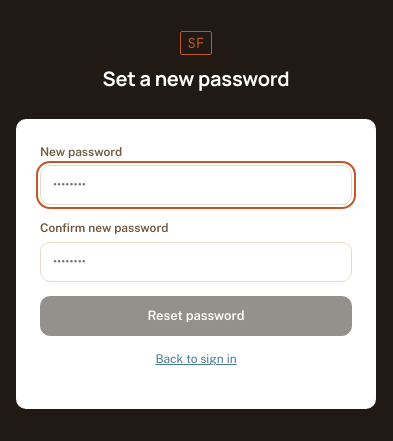
it: ResetPasswordPage › shows a real success state and mentions sessions being signed out
Type "brandnewpassword456" into the password field labelled "New password". click: (196, 185)
box: x1=40 y1=165 x2=352 y2=205
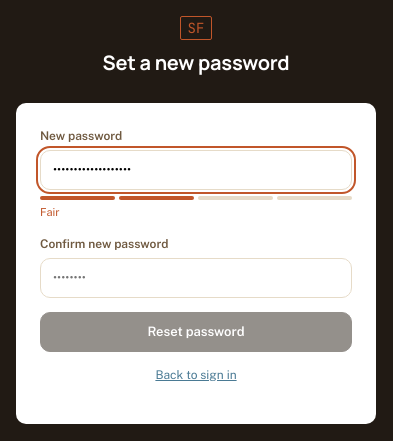
Type "brandnewpassword456" into the password field labelled "Confirm new password". click: (196, 278)
box: x1=40 y1=258 x2=352 y2=298
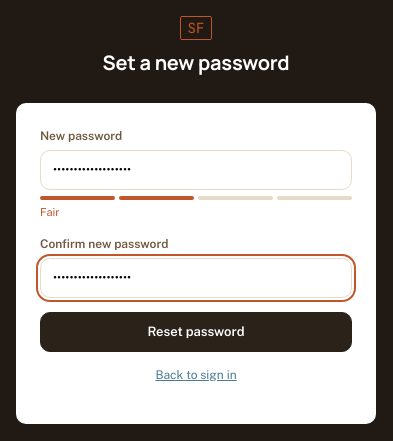
Click the button "Reset password". click: (196, 332)
box: x1=40 y1=312 x2=352 y2=352
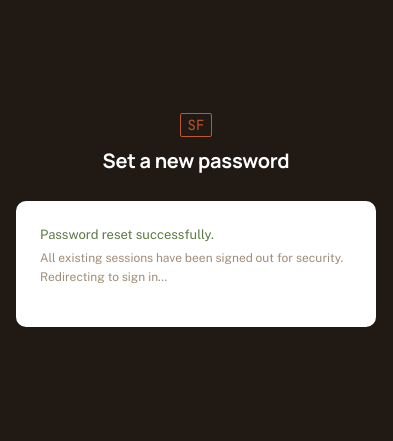
Check: the text "Password reset successfully." is shown, box x1=40 y1=227 x2=214 y2=242
Check: the text "All existing sessions" is shown, box x1=40 y1=251 x2=343 y2=284
